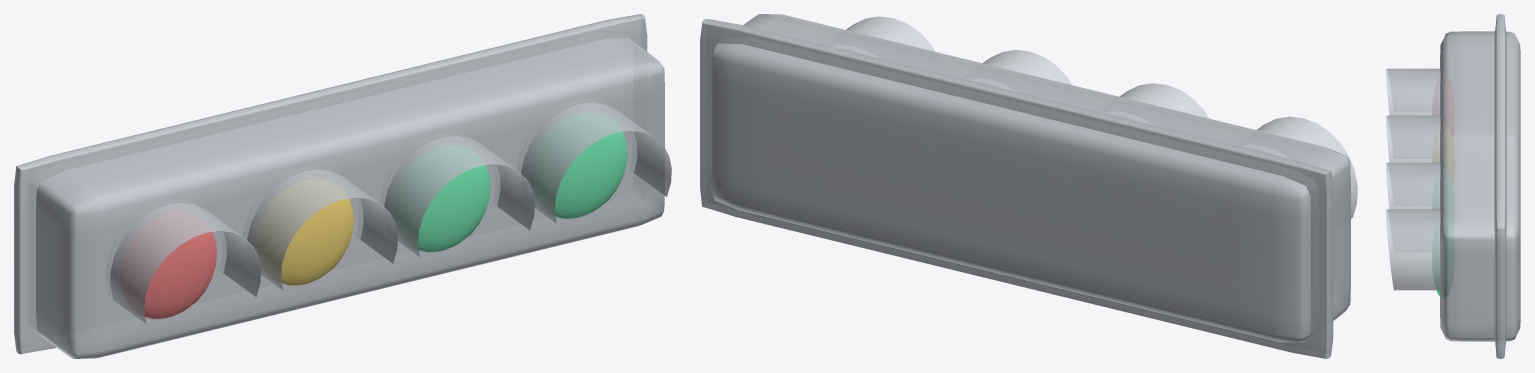
File: tesla_fsd_traffic_light_head_ghost.glb
3 views of the same model, side by side, from view 1: azimuth 30°, elevation 25°; view 2: azimuth 150°, elevation 25°; view 3: azimuth 270°, elevation 25° (orthographic). The views are drawn at different scales.
Visible parts, largest first — view 1: TeslaFSDTrafficLightHeadGhost; view 2: TeslaFSDTrafficLightHeadGhost; view 3: TeslaFSDTrafficLightHeadGhost.
Part boxes in pixels (x1,y1,x2,y2): TeslaFSDTrafficLightHeadGhost: (14, 14, 671, 358); TeslaFSDTrafficLightHeadGhost: (700, 14, 1357, 358); TeslaFSDTrafficLightHeadGhost: (1386, 14, 1520, 358).
Size of the model in its own units: 1.52 by 0.44 by 0.4.
